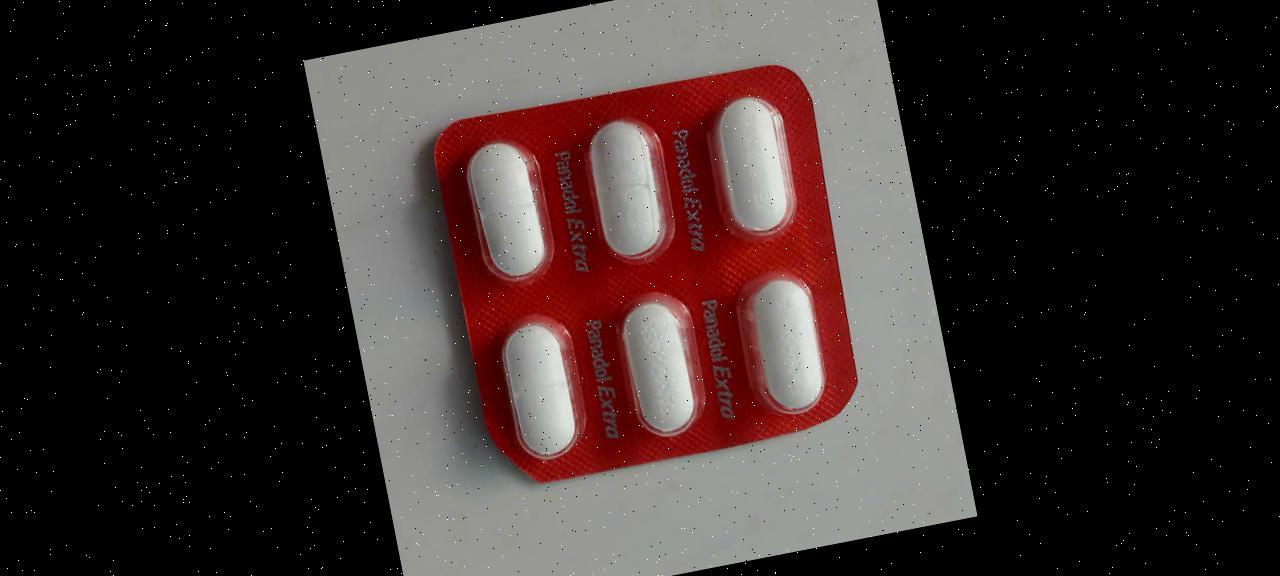Full: (700, 85, 805, 250), (735, 262, 840, 427), (577, 108, 682, 273), (606, 283, 711, 448), (459, 132, 564, 297), (485, 307, 590, 472)
